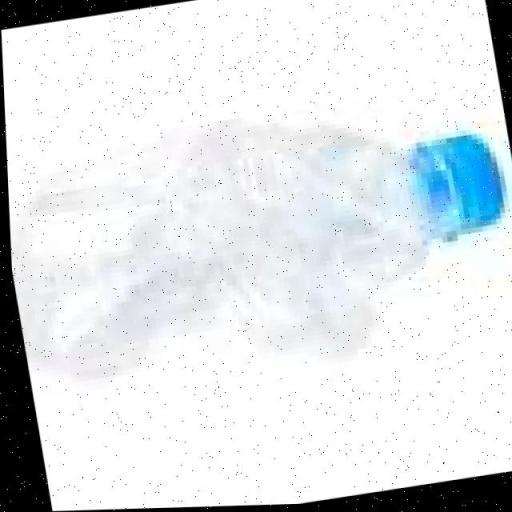plastic: (2, 58, 512, 426)
